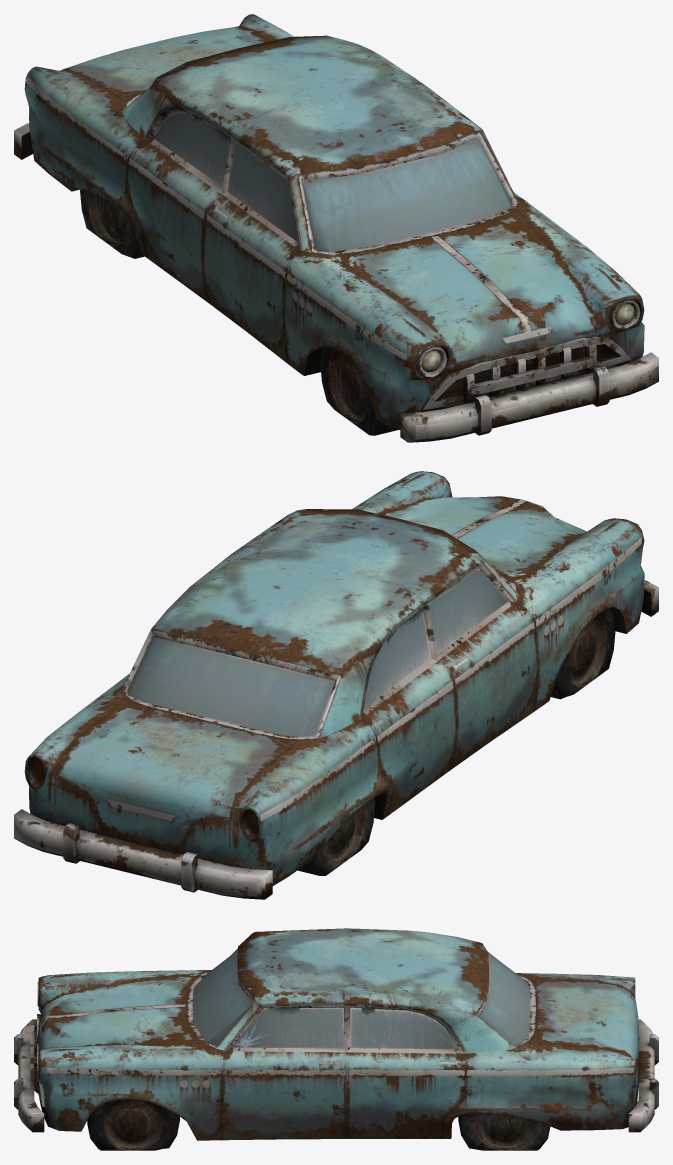
File: old-rusty-car.glb
The picture shows the model from 3 angles, top to bottom: view 1: azimuth 30°, elevation 25°; view 2: azimuth 150°, elevation 25°; view 3: azimuth 270°, elevation 25°; orthographic projection. The views are drawn at different scales.
Visible parts, largest first — view 1: old-rusty-car; view 2: old-rusty-car; view 3: old-rusty-car.
Boxes of the visible parts, x1=… form: old-rusty-car: x1=14, y1=14, x2=658, y2=442; old-rusty-car: x1=14, y1=471, x2=658, y2=899; old-rusty-car: x1=14, y1=928, x2=658, y2=1150.
Bounding box in the file's own units: 260 × 184 × 724.
1 material, 1 textured.
